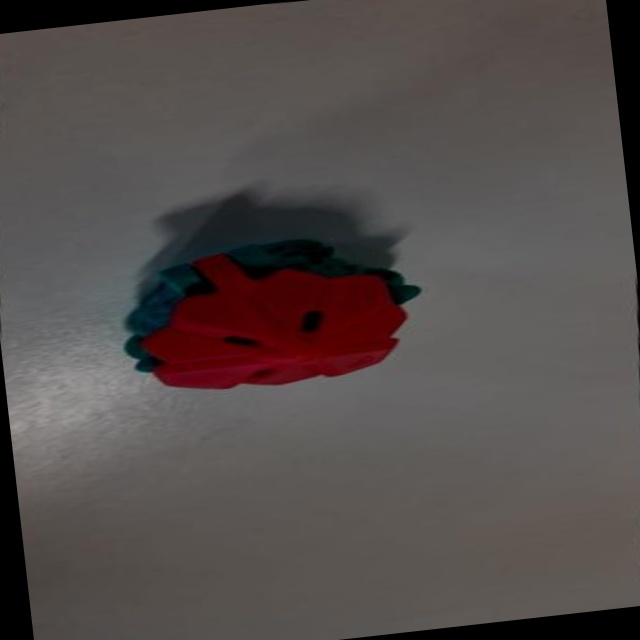House: (95, 212, 439, 418)
